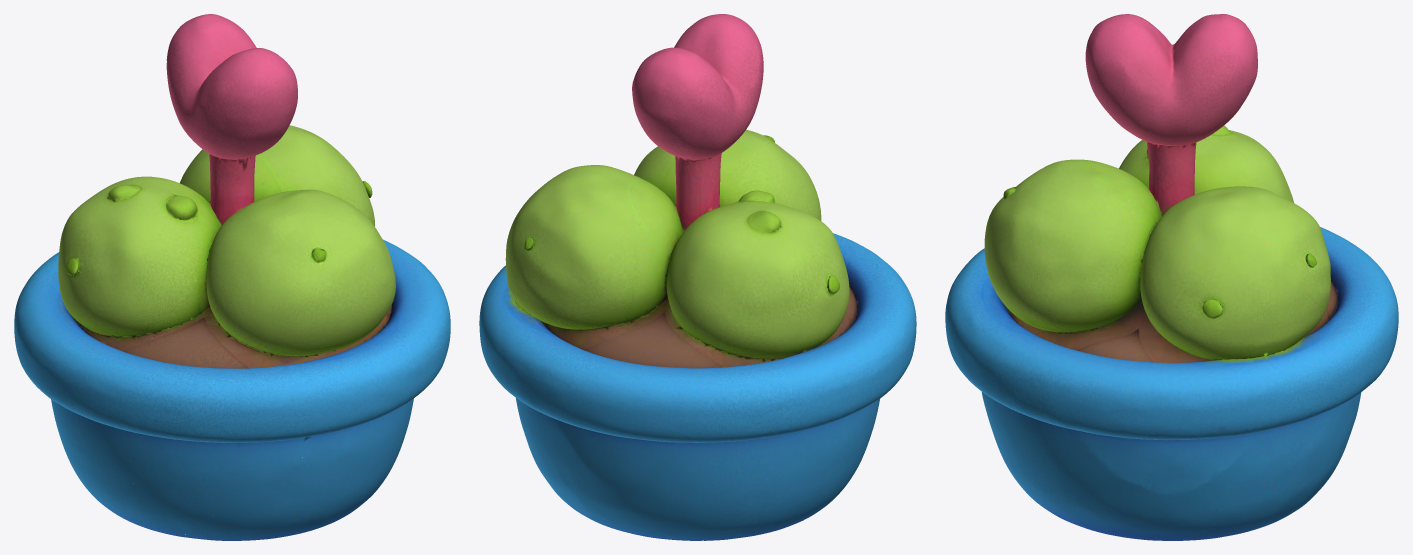
File: env_nest_planter_01.glb
3 renders of one model, left to right at view 1: azimuth 30°, elevation 25°; view 2: azimuth 150°, elevation 25°; view 3: azimuth 270°, elevation 25°, orthographic. The views are drawn at different scales.
Visible parts, largest first — view 1: tripo_node_350d6aa3-2a91-4062-9eb2-54f05761639c; view 2: tripo_node_350d6aa3-2a91-4062-9eb2-54f05761639c; view 3: tripo_node_350d6aa3-2a91-4062-9eb2-54f05761639c.
Boxes of the visible parts, box(x1,y1,x2,y2) form: tripo_node_350d6aa3-2a91-4062-9eb2-54f05761639c: box(14, 14, 450, 540); tripo_node_350d6aa3-2a91-4062-9eb2-54f05761639c: box(479, 14, 916, 540); tripo_node_350d6aa3-2a91-4062-9eb2-54f05761639c: box(945, 14, 1398, 540).
Bounding box in the file's own units: 0.8804 × 1 × 0.881.
Materials: 1 (1 with a texture image).
